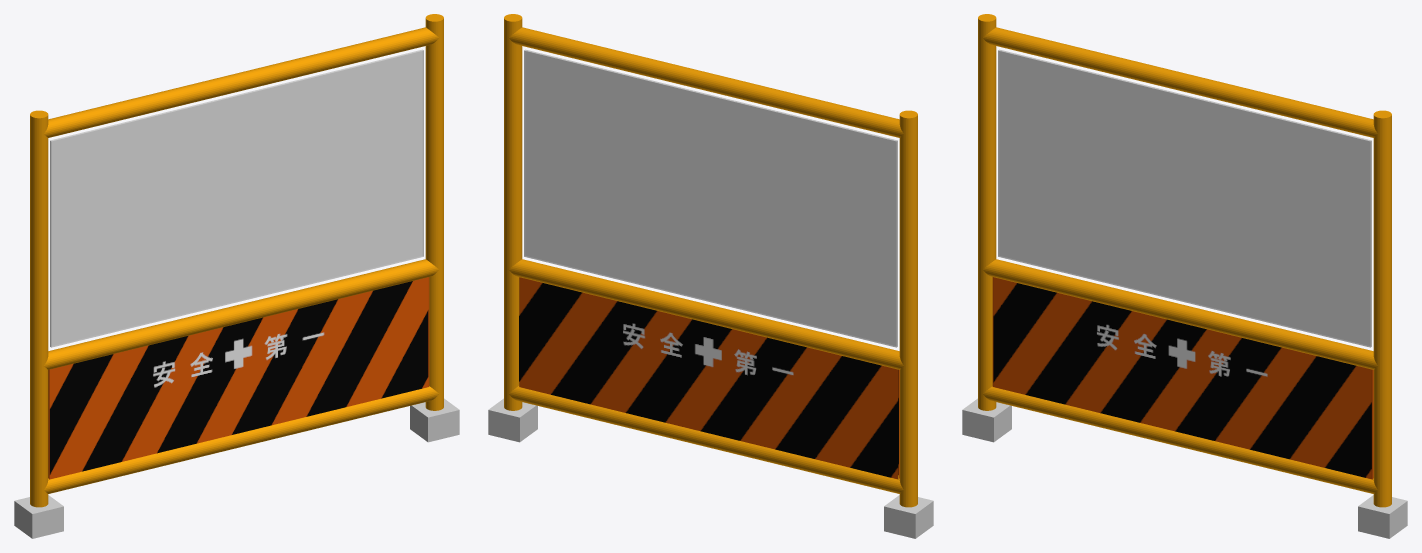
File: wall.dae
The picture shows the model from 3 angles, left to right: view 1: azimuth 30°, elevation 25°; view 2: azimuth 150°, elevation 25°; view 3: azimuth 330°, elevation 25°; orthographic projection.
Parts seen in each view (by area): view 1: wall; view 2: wall; view 3: wall.
Part boxes in pixels (bbox=[...]): wall: bbox=[14, 14, 459, 538]; wall: bbox=[488, 14, 933, 538]; wall: bbox=[962, 14, 1407, 538].
Bounding box in the file's own units: 0.054 × 0.004 × 0.05.
9 materials, 1 textured.
